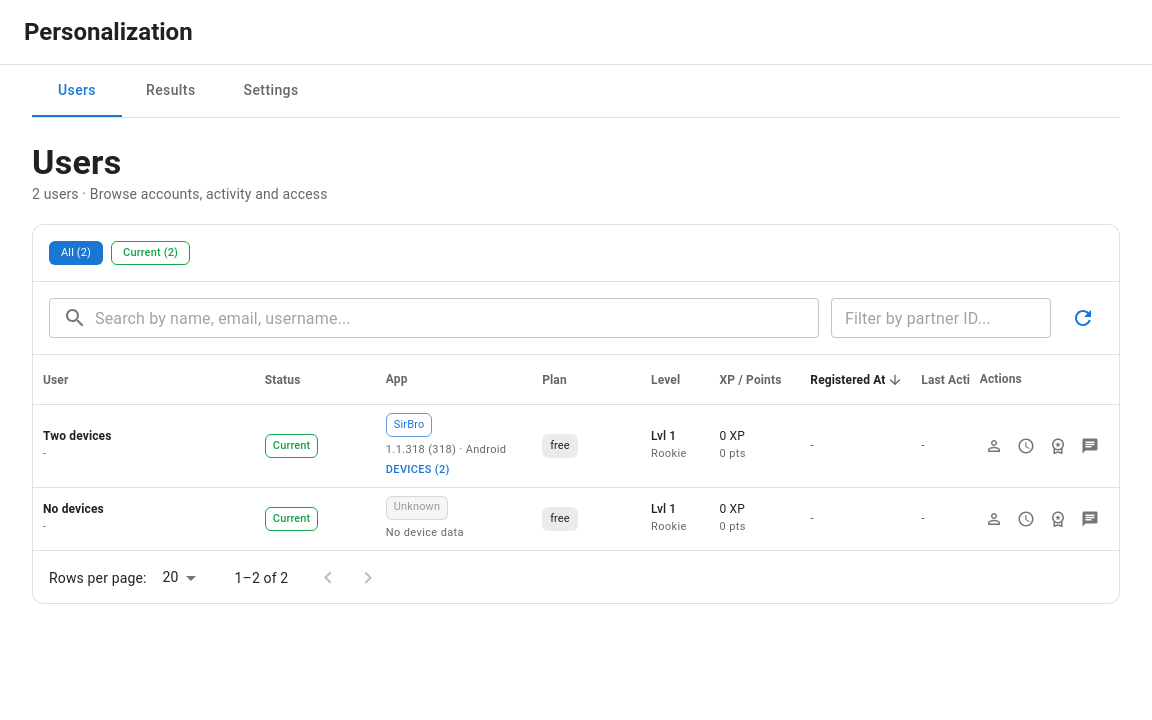
Test: UsersPage › shows the latest installation and each device with its own version and last seen time
The width and height of the screenshot is (1152, 720).
expect the link "Time in app" is not shown: met
Click the button named "Time in app" in the row of "Two devices".
click(1026, 446)  # box [1012, 432, 1040, 460]
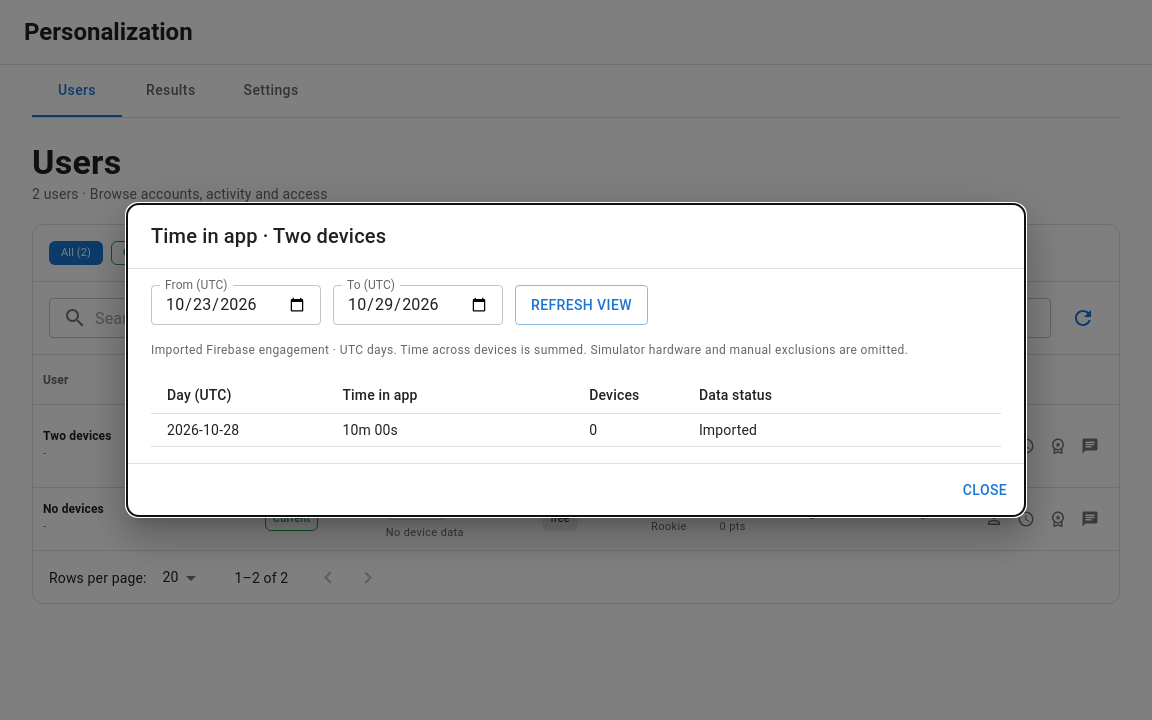
expect the text "10m 00s" is shown: met, box [326, 413, 573, 446]
Click the button "Close".
click(985, 490)  # box [953, 472, 1017, 508]
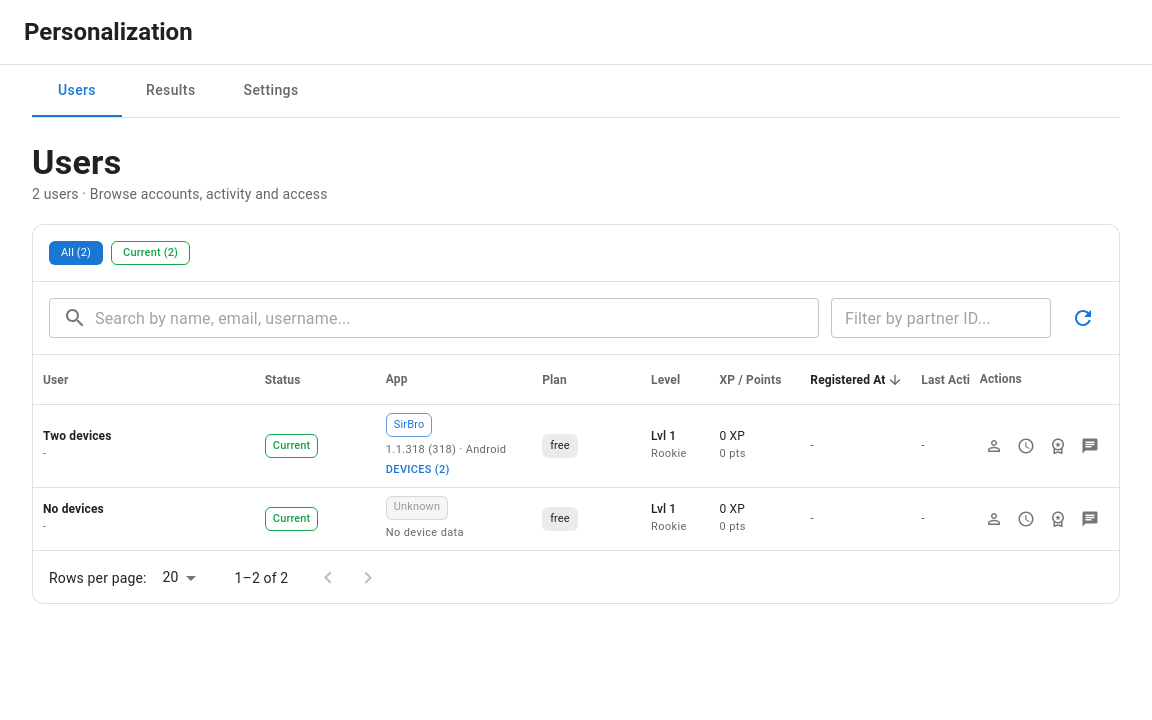
expect the link named "Portrait" in the row of "Two devices" is shown: met, box [985, 437, 1003, 455]
expect the dialog is gone: met
Click the button "Devices (2)".
click(418, 470)  # box [386, 461, 450, 479]
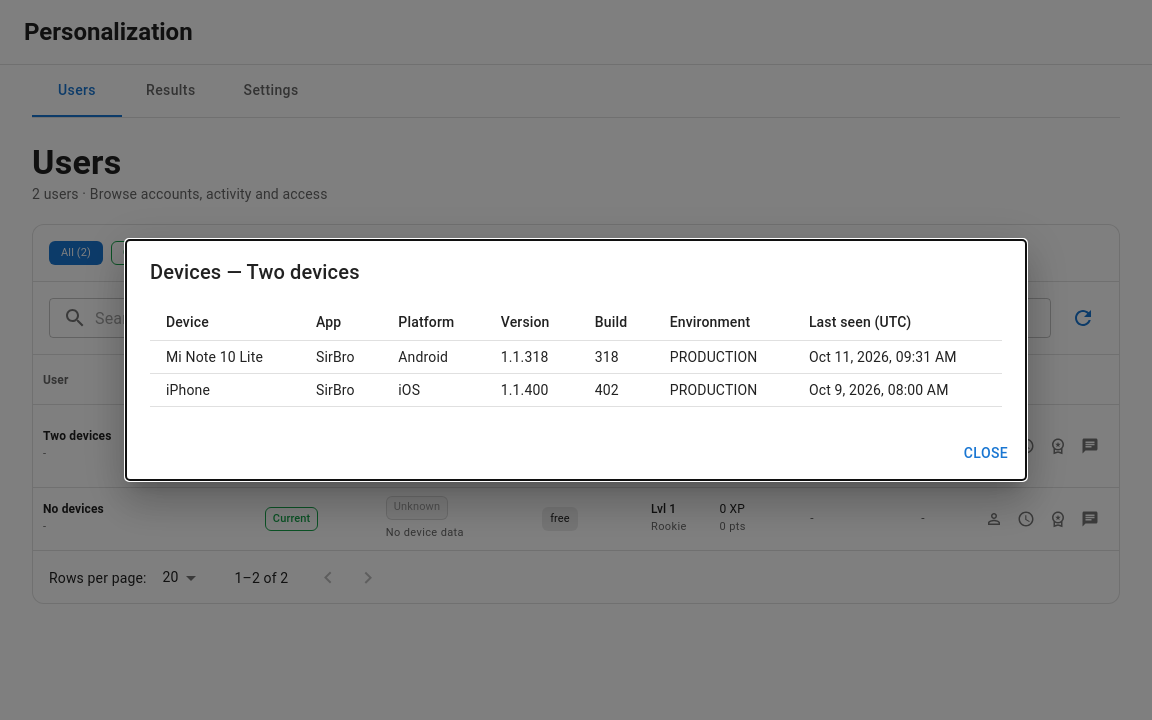
expect the text "Mi Note 10 Lite" is shown: met, box [150, 341, 300, 374]
expect the text "1.1.318" is shown: met, box [485, 341, 579, 374]
expect the text "1.1.400" is shown: met, box [485, 374, 579, 407]
Click the button "Close".
click(986, 454)  # box [954, 435, 1018, 472]
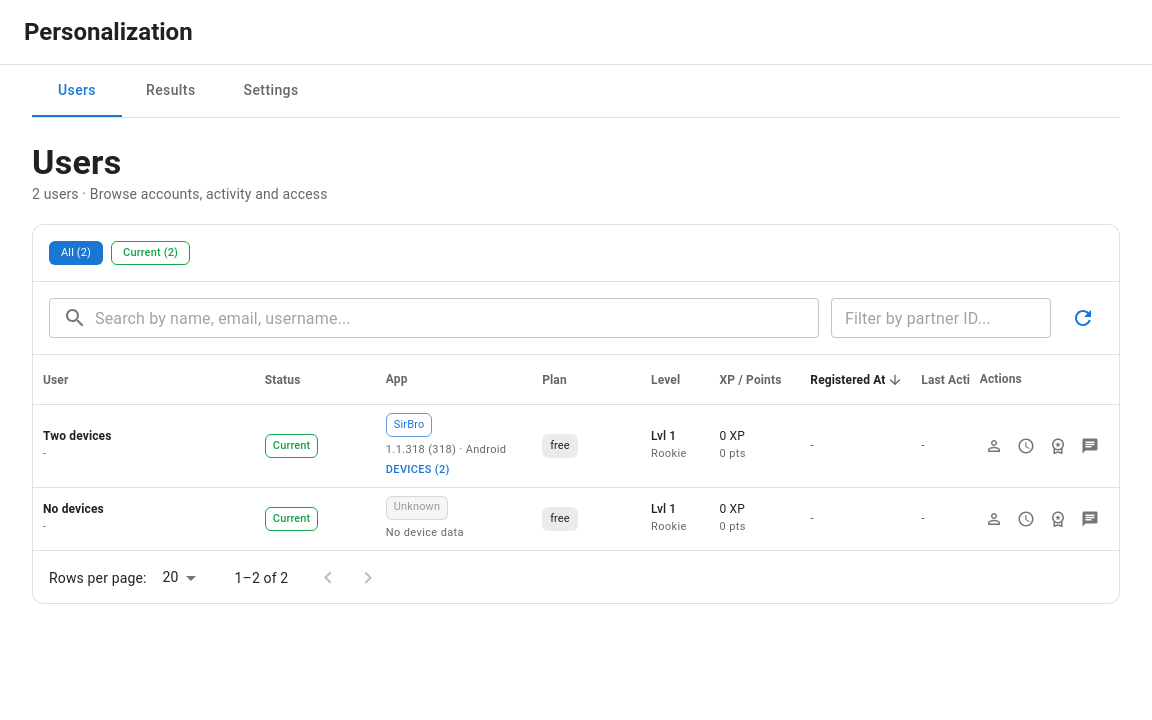
expect the dialog is gone: met
